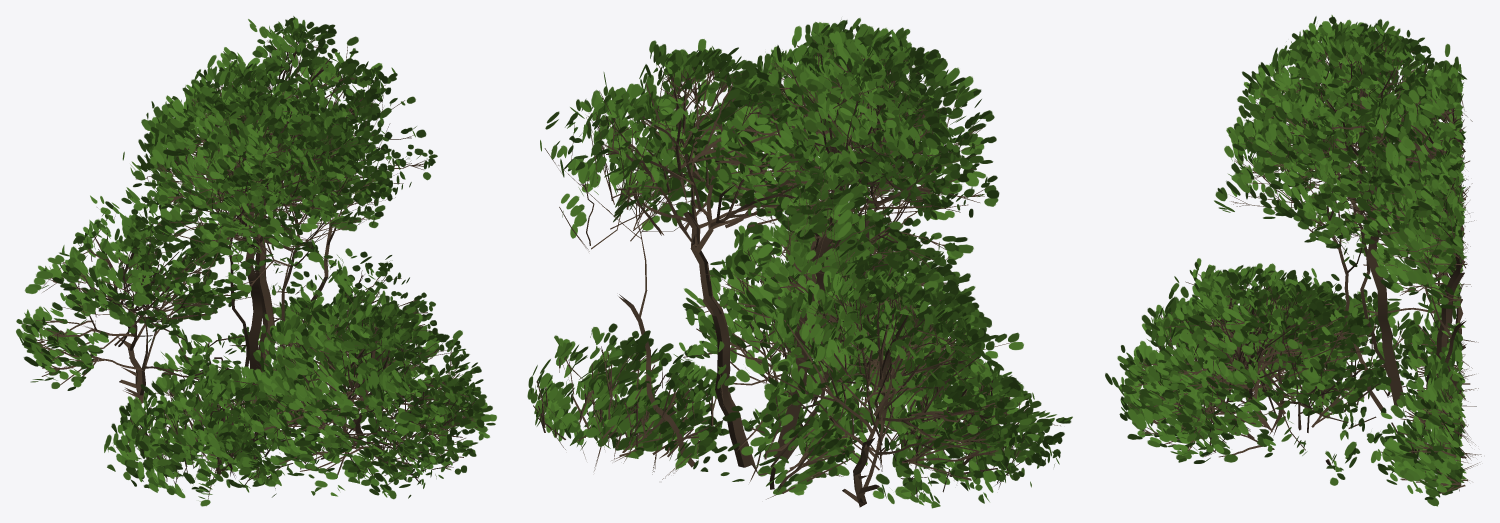
3 views of the same model, side by side, from view 1: azimuth 30°, elevation 25°; view 2: azimuth 150°, elevation 25°; view 3: azimuth 270°, elevation 25° (orthographic). The views are drawn at different scales.
Visible parts, largest first — view 1: oak 01.001_trunk_Mat.001_0.367; view 2: oak 01.001_trunk_Mat.001_0.367; view 3: oak 01.001_trunk_Mat.001_0.367.
Boxes of the visible parts, x1,y1,x2,y2 form: oak 01.001_trunk_Mat.001_0.367: (16,16,496,506); oak 01.001_trunk_Mat.001_0.367: (527,18,1072,508); oak 01.001_trunk_Mat.001_0.367: (1105,15,1481,506).
Size of the model in its own units: 5.38 by 4.82 by 4.22.
2 materials, 1 textured.
